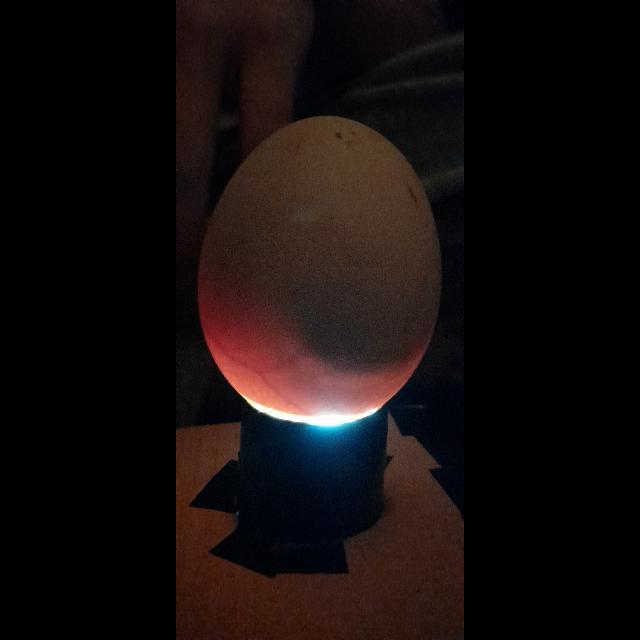Fertile: (196, 110, 444, 432)
